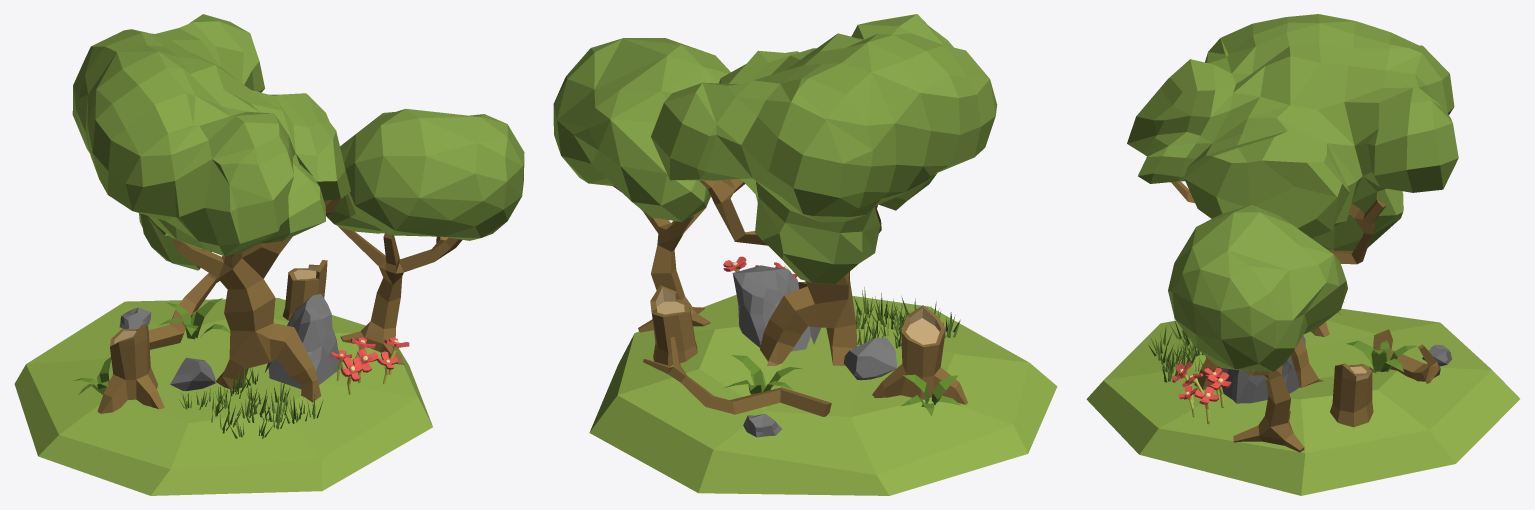
The model's file is nested trees 1.fbx.
The picture shows the model from 3 angles, left to right: view 1: azimuth 30°, elevation 25°; view 2: azimuth 150°, elevation 25°; view 3: azimuth 270°, elevation 25°; orthographic projection. The views are drawn at different scales.
Visible parts, largest first — view 1: nested forest set_LOD0; view 2: nested forest set_LOD0; view 3: nested forest set_LOD0.
Boxes of the visible parts, left/top/right/bottom form: nested forest set_LOD0: left=14, top=14, right=524, bottom=495; nested forest set_LOD0: left=553, top=14, right=1057, bottom=495; nested forest set_LOD0: left=1086, top=14, right=1519, bottom=495.
Size of what is drawn, in the model's own units: 15.3 by 11.74 by 12.92.
